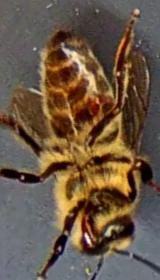varroa_mite: (82, 90, 108, 120), (48, 113, 70, 143)
